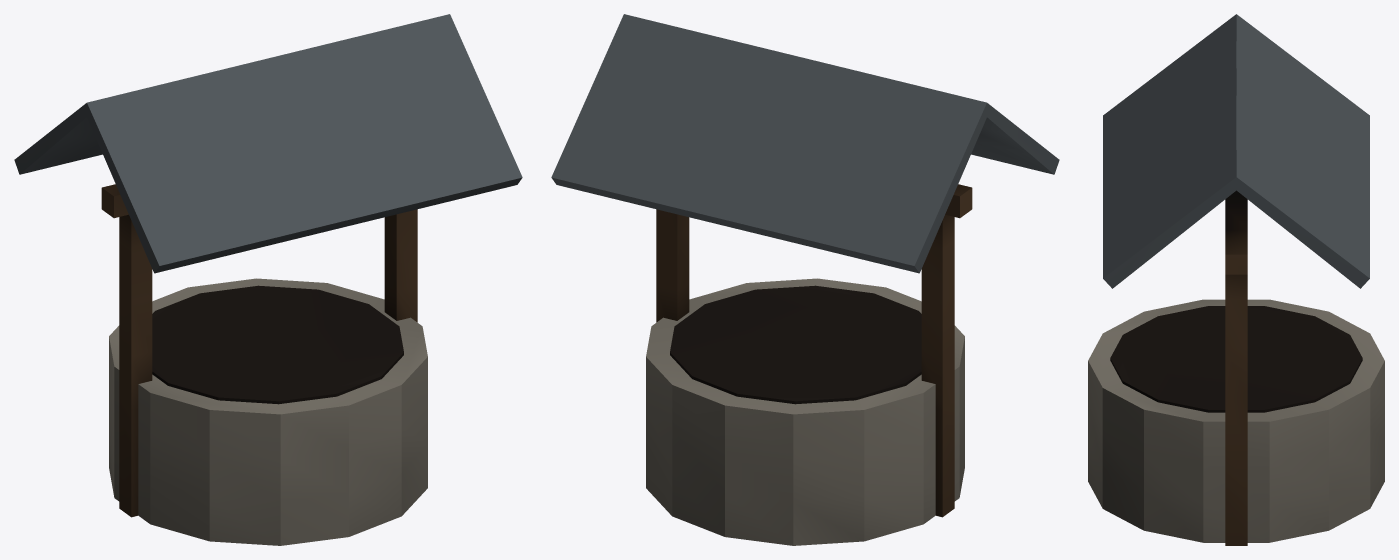
Rendered from well.glb.
3 views of the same model, side by side, from view 1: azimuth 30°, elevation 25°; view 2: azimuth 150°, elevation 25°; view 3: azimuth 270°, elevation 25° (orthographic). The views are drawn at different scales.
Parts seen in each view (by area): view 1: well; view 2: well; view 3: well.
Boxes of the visible parts, box(x1,y1,x2,y2) form: well: box(14, 14, 522, 545); well: box(551, 14, 1059, 545); well: box(1088, 14, 1384, 545).
Size of the model in its own units: 2.6 by 2.87 by 2.
